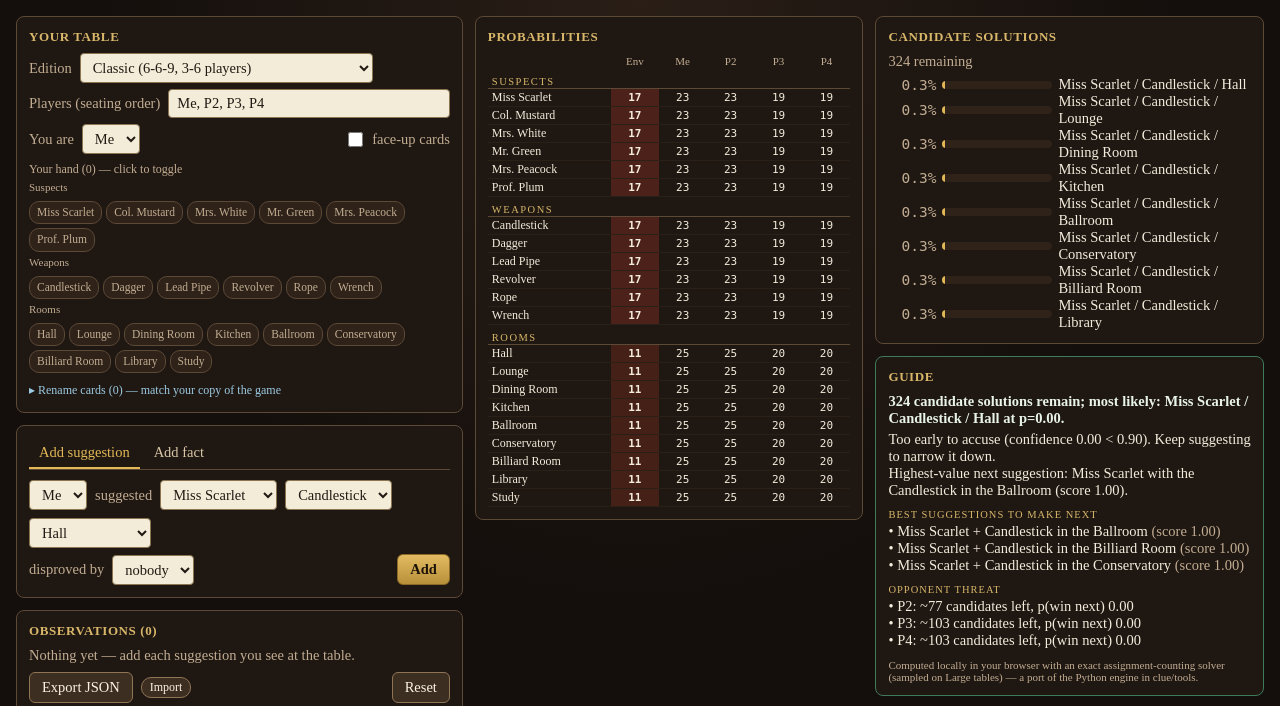
Test: Analyze page card renames › rejects duplicate labels via validation
Click the button "▸ Rename cards (0) — match your copy of the game".
click(155, 391)  # box x1=29 y1=381 x2=281 y2=400
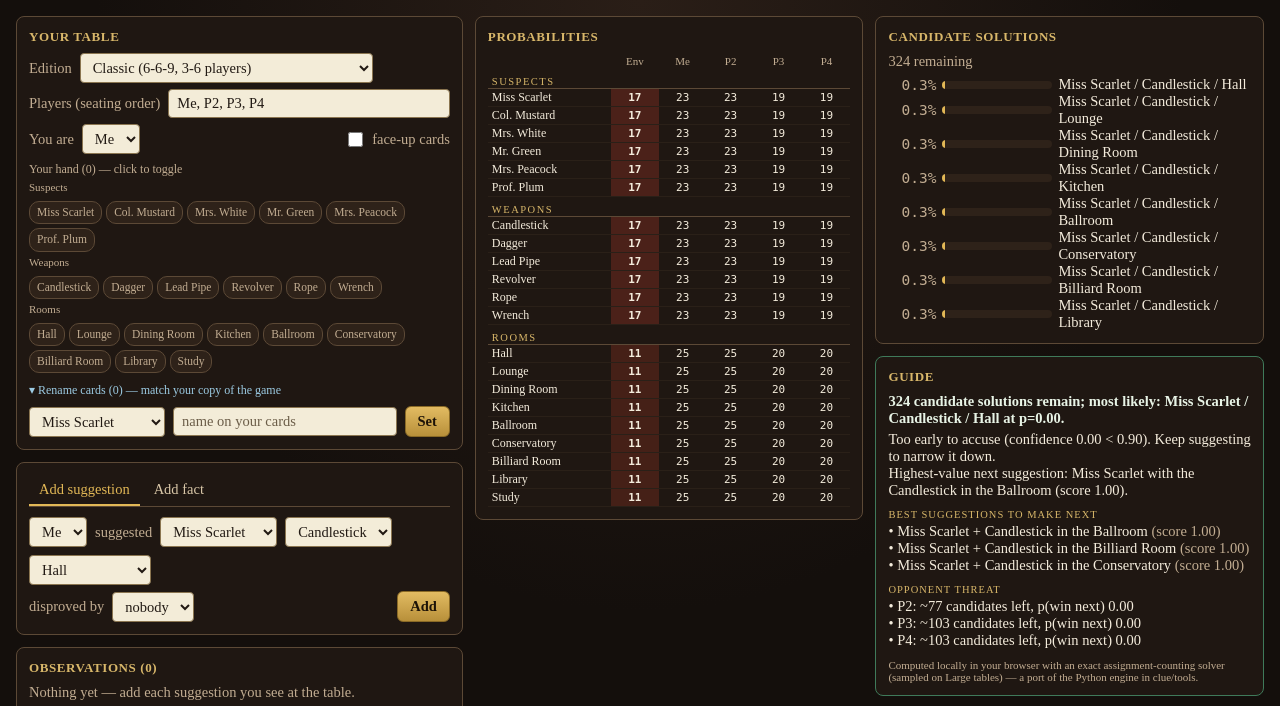
Select "Rope" in the 3rd dropdown at (97, 422), box x1=29 y1=407 x2=165 y2=437
Type "Knife" into the field with placeholder "name on your cards".
click(285, 422); type("Knife")  # box x1=173 y1=407 x2=396 y2=436
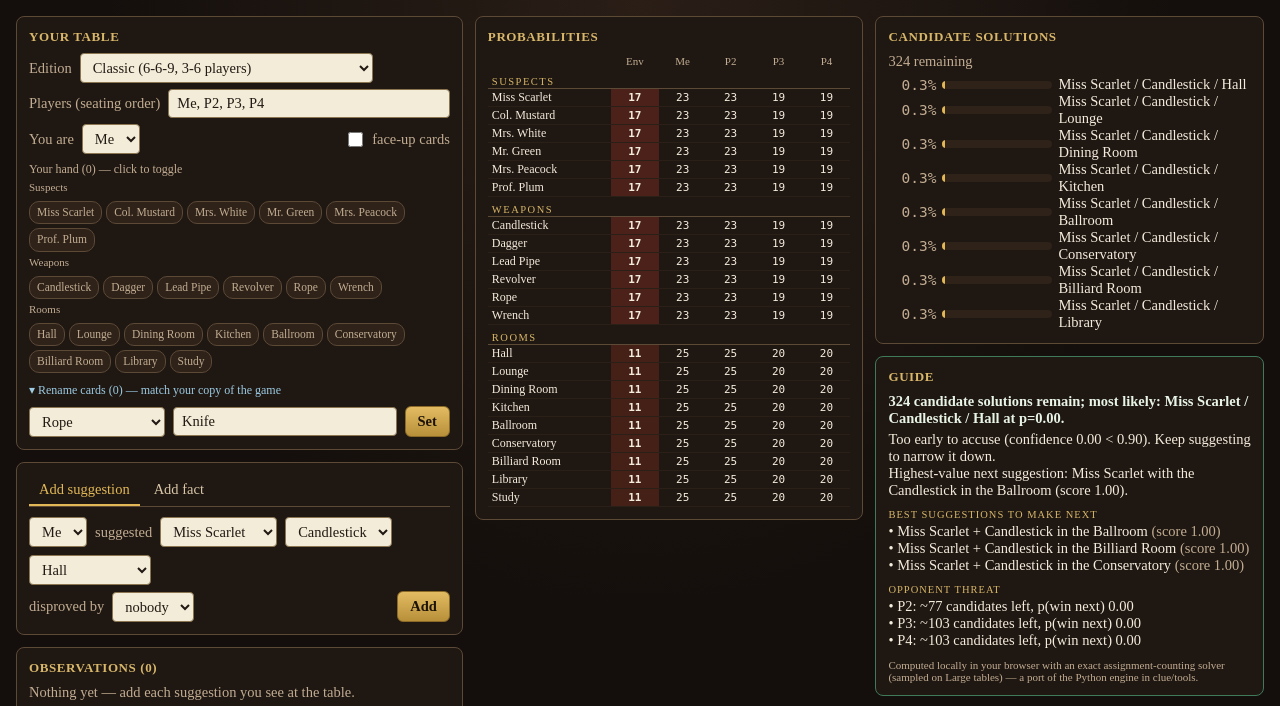
Click the button "Set".
click(427, 422)  # box x1=404 y1=406 x2=450 y2=437
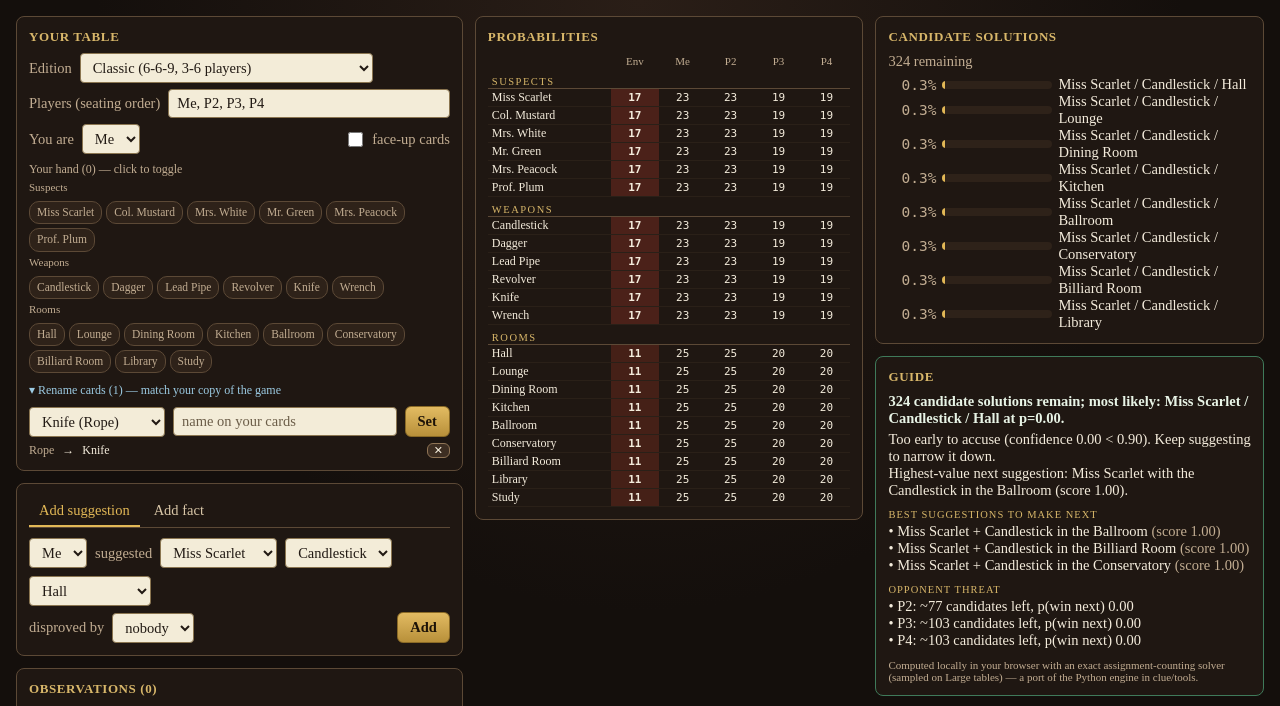
Select "Dagger" in the 3rd dropdown at (97, 422), box x1=29 y1=407 x2=165 y2=437
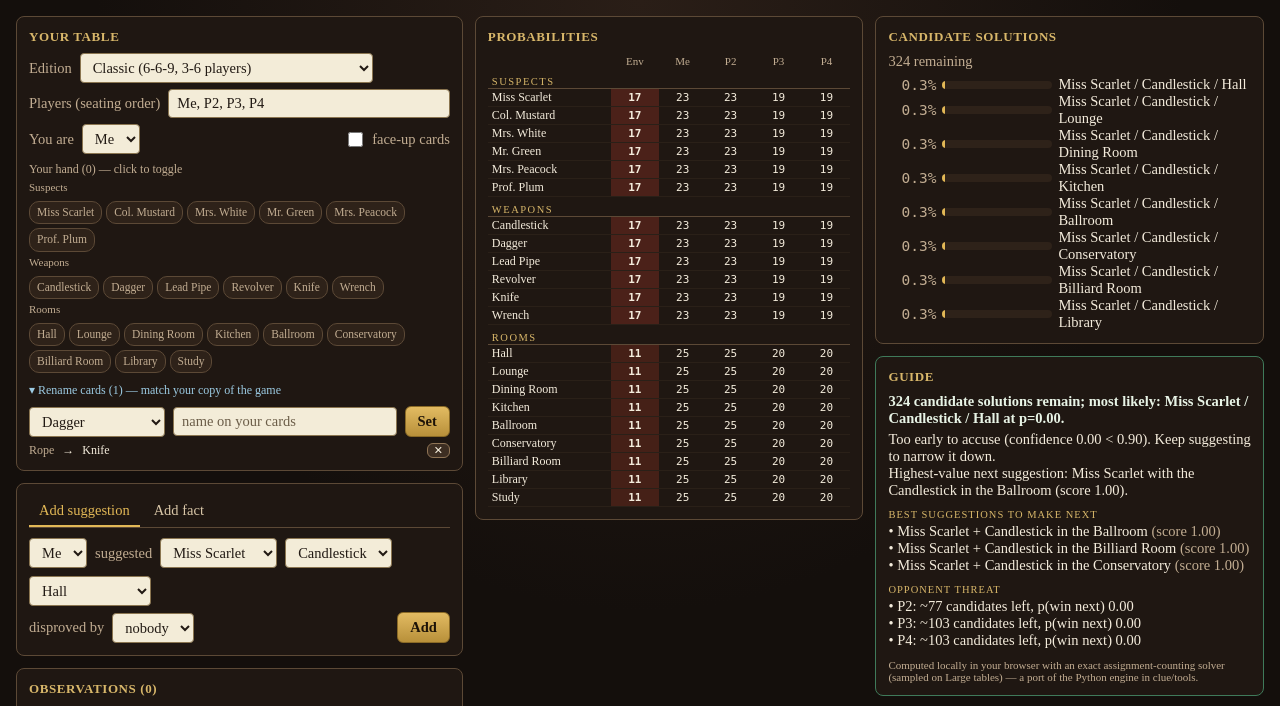
Type "knife" into the field with placeholder "name on your cards".
click(285, 422); type("knife")  # box x1=173 y1=407 x2=396 y2=436
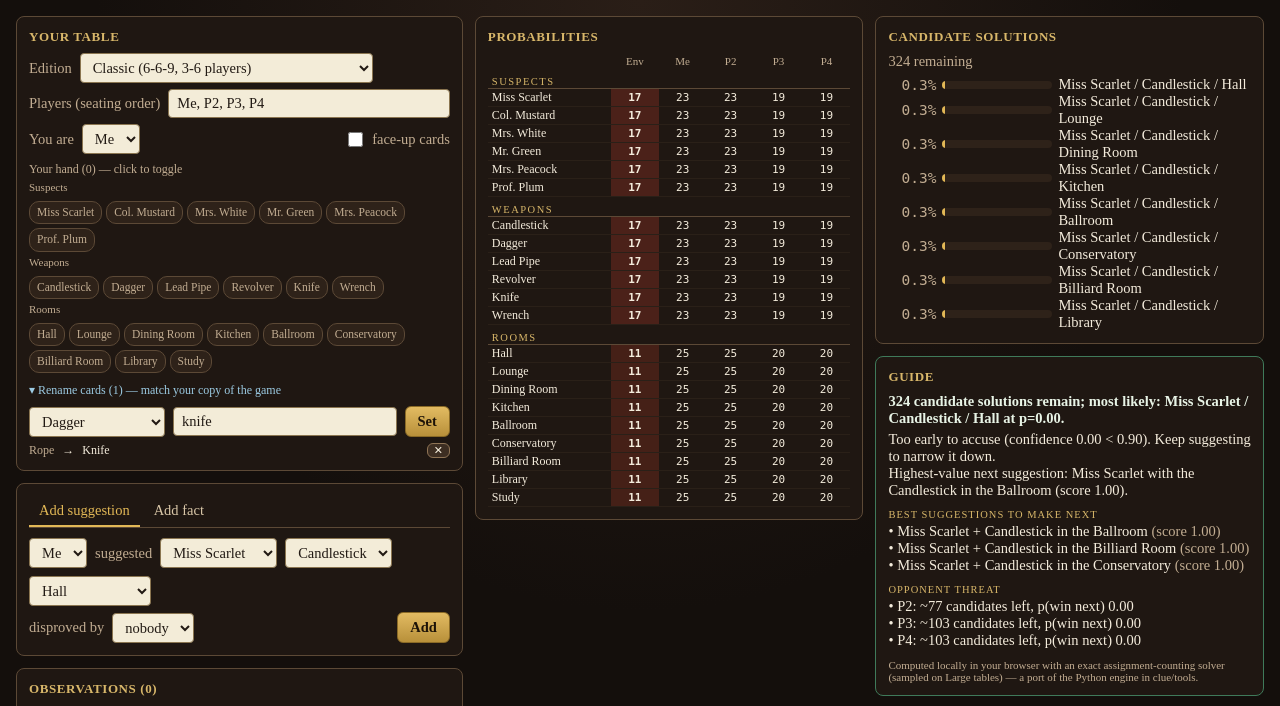
Click the button "Set".
click(427, 422)  # box x1=404 y1=406 x2=450 y2=437
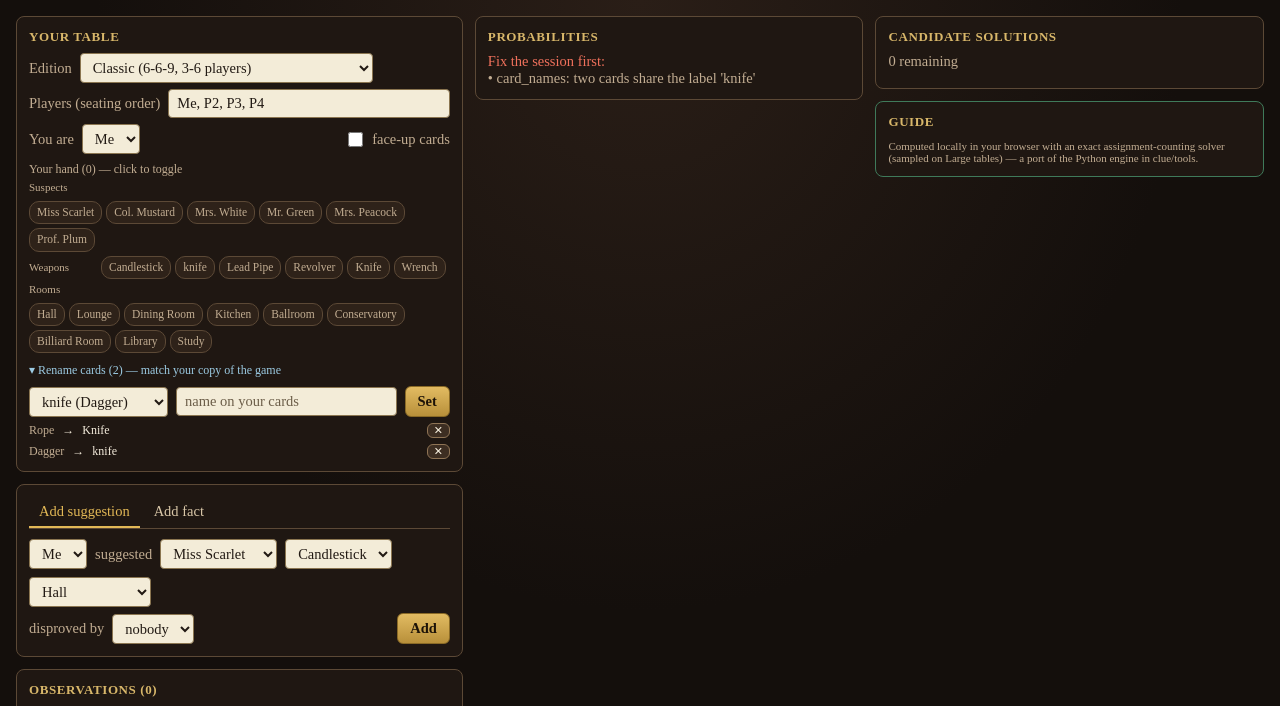
Expected: the text "Fix the session first:" is shown, x1=488 y1=53 x2=605 y2=69
Expected: the text "• card_names: two cards share the label 'knife'" is shown, x1=488 y1=70 x2=755 y2=86
